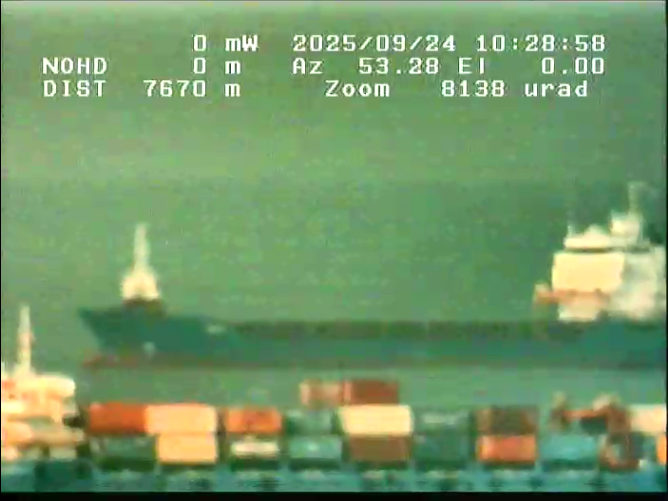TANKER: (54, 139, 668, 366)
